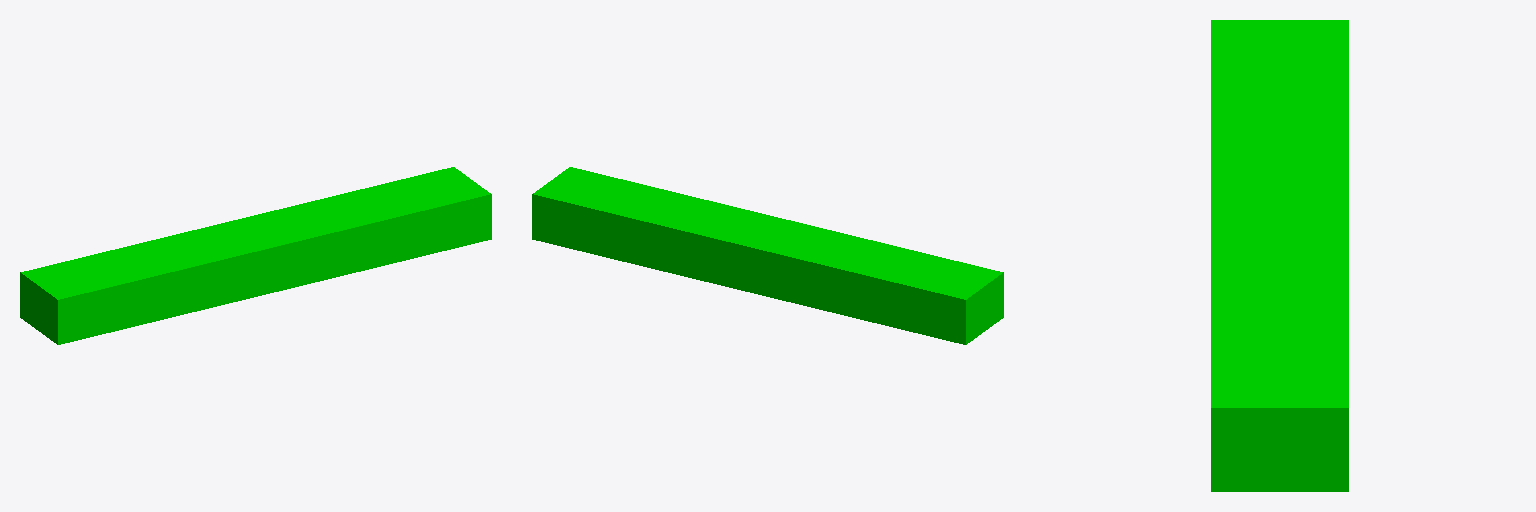
URDF robot description (goal):
<?xml version="1.0"?> 
<robot name="goal">
    <!-- Colors --> 
    <material name="green"> 
        <color rgba="0.0 0.9 0.0 0.5"/>
    </material>


    <!-- Base Frame of Goal --> 
    <link name="base_link">
        <visual> 
            <geometry> 
                <box size="1. 0.15 0.1"/>
            </geometry>
            <material name="green"/>
        </visual>
        <collision>
            <geometry>
                <box size="1. 0.15 0.1"/>
            </geometry>
      </collision>
    </link> 
    
</robot>

--- Facts derived from the render (not from the file) ---
Views: 3 orthographic renders of the robot side by side, from view 1: azimuth 30°, elevation 25°; view 2: azimuth 150°, elevation 25°; view 3: azimuth 270°, elevation 25°.
Robot: goal — 1 links, 0 joints (none); root link base_link; default pose: all joints at 0.
Links seen in each view (by area): view 1: base_link; view 2: base_link; view 3: base_link.
Link boxes in pixels (x1,y1,x2,y2): base_link: (20,167,491,344); base_link: (532,167,1003,344); base_link: (1211,20,1348,491).
Size in the robot's own frame: 1 by 0.15 by 0.1 metres.
Geometry: primitives only (box / cylinder / sphere), no mesh files.